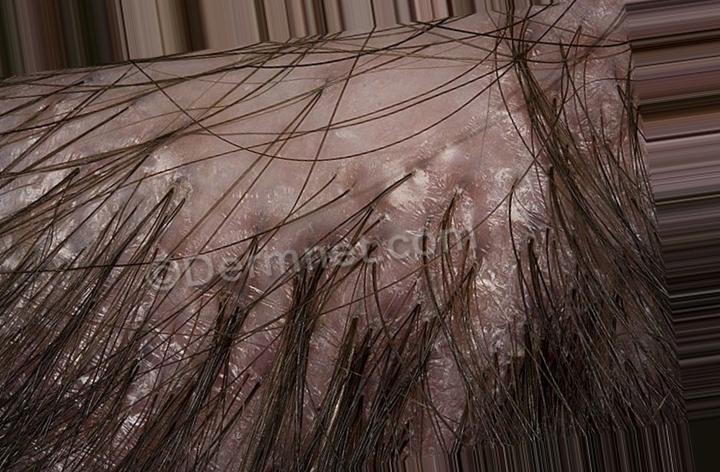Folliculitis: (206, 69, 536, 351)
